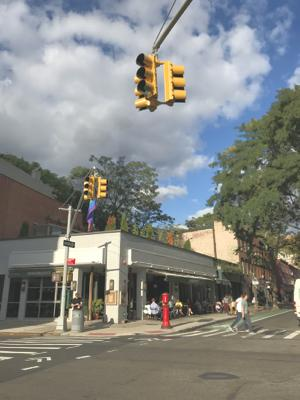International Road Signal Light: (134, 55, 157, 109), (168, 61, 186, 104), (97, 177, 108, 199), (83, 176, 91, 200)
